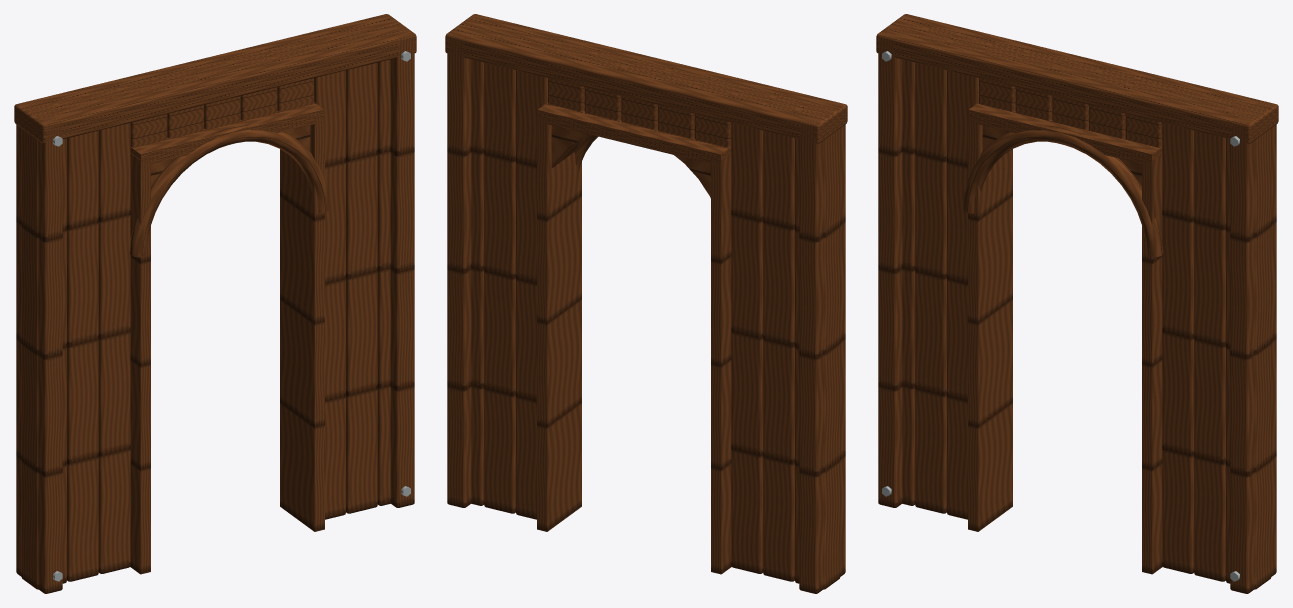
File: modular-survival-base-builder-wall-arched-doorway-edd85cfd__24157.glb
3 renders of one model, left to right at view 1: azimuth 30°, elevation 25°; view 2: azimuth 150°, elevation 25°; view 3: azimuth 330°, elevation 25°, orthographic.
Parts seen in each view (by area): view 1: wall-arched-doorway; view 2: wall-arched-doorway; view 3: wall-arched-doorway.
Boxes of the visible parts, left/top/right/bottom form: wall-arched-doorway: left=14, top=14, right=416, bottom=593; wall-arched-doorway: left=445, top=14, right=847, bottom=593; wall-arched-doorway: left=876, top=14, right=1278, bottom=593.
Bounding box in the file's own units: 2 × 2.4 × 0.3319.
2 materials, 1 textured.
